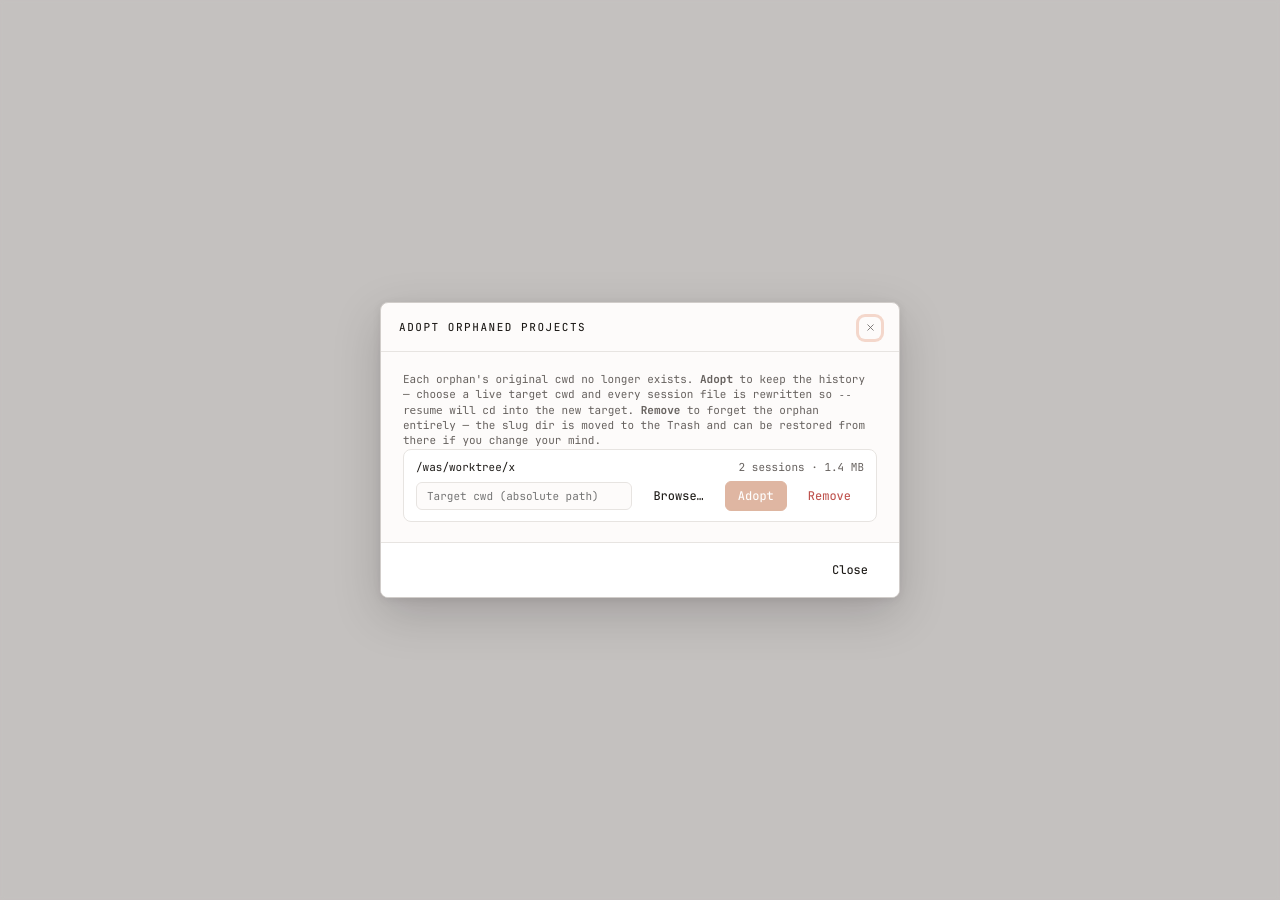
it: AdoptOrphansModal › shows an inline error when adoption fails — no toast spam
Type "/live" into the field with placeholder "Target cwd (absolute path)". click: [524, 496]
box: [416,482,632,510]
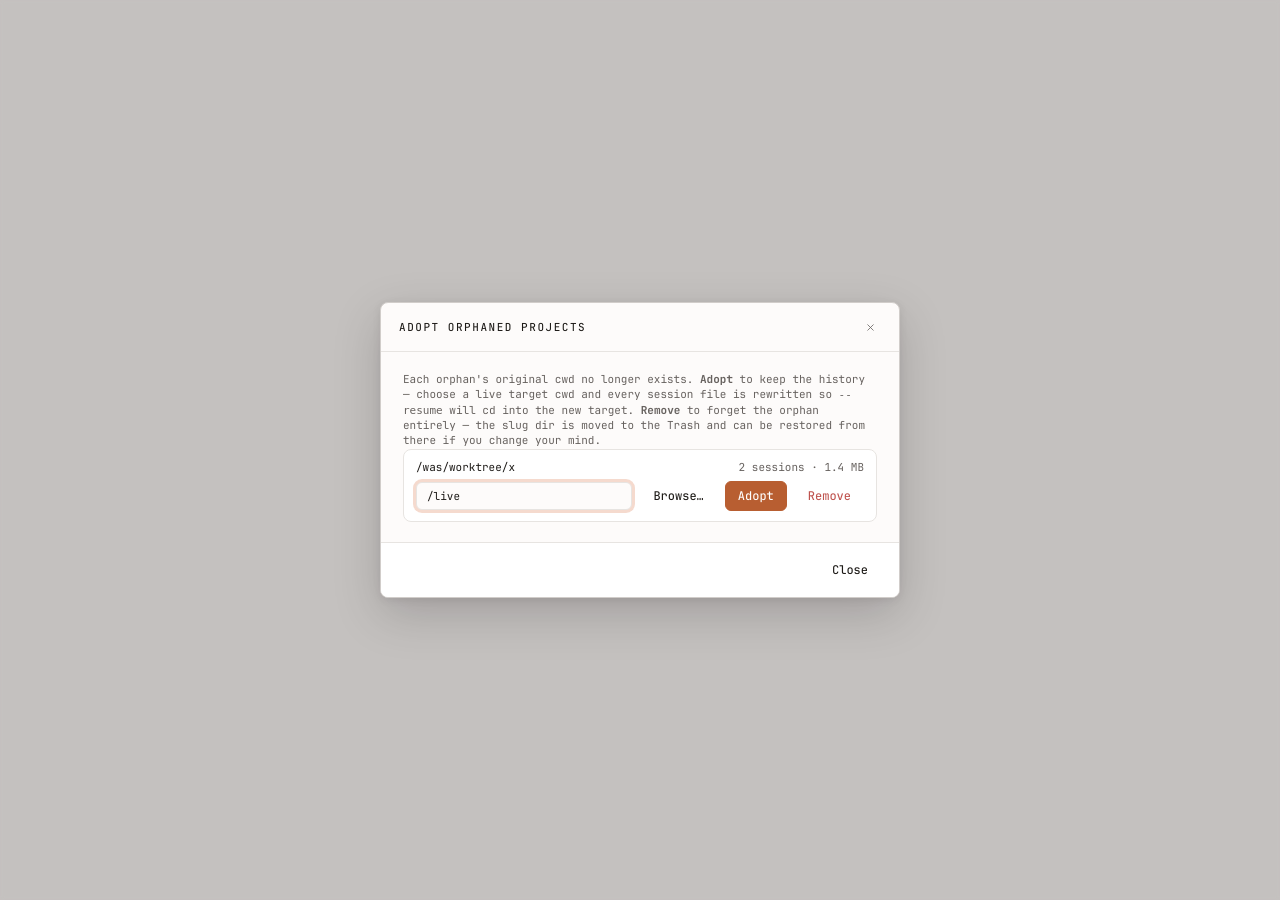
Click the button "Adopt". click: [756, 496]
box: [725,481,787,511]
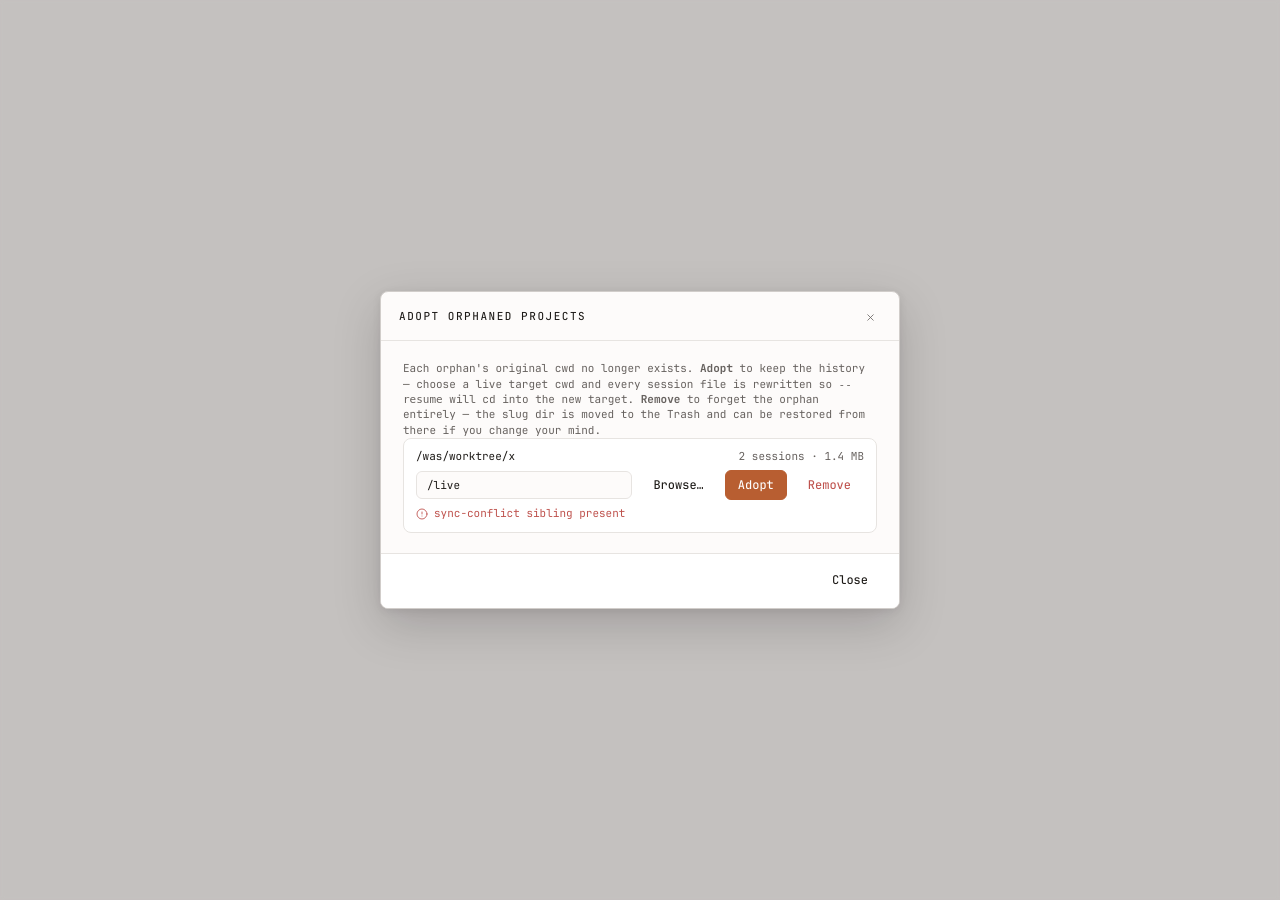
Expected: the text "sync-conflict sibling present" is shown, [416,506,625,520]
